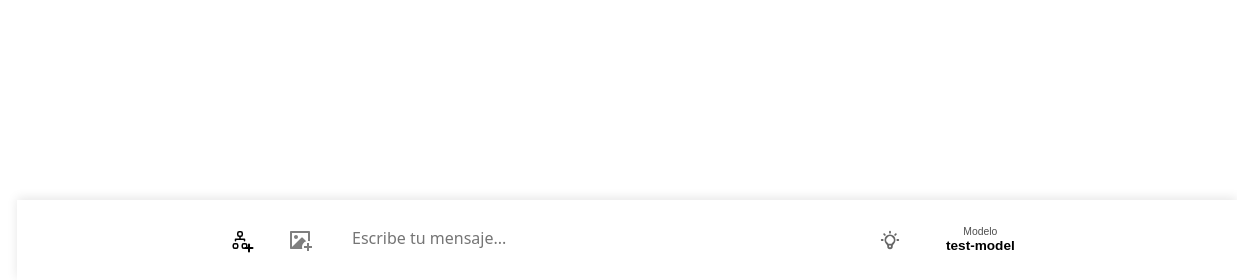
ChatInput Component - Templates › al hacer clic en una plantilla, el input cambia a su prompt
Click the button titled "Ver plantillas". click: (890, 240)
box: [874,224,906,256]
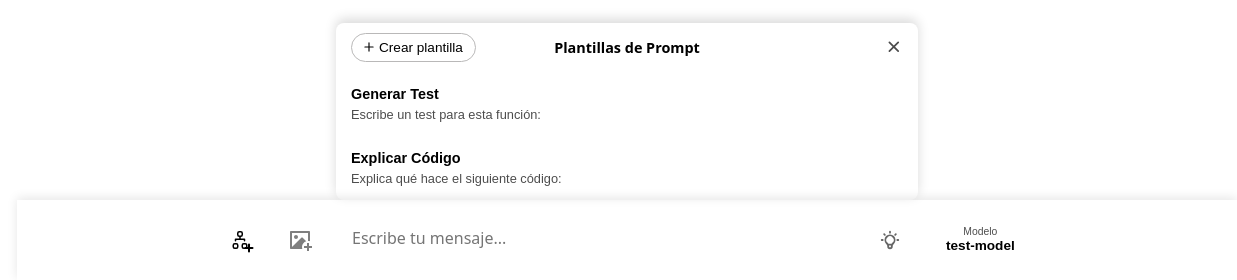
Note: Hacer clic en una de las plantillas
Click the text "Generar Test". click: (395, 94)
box: [351,86,439,102]
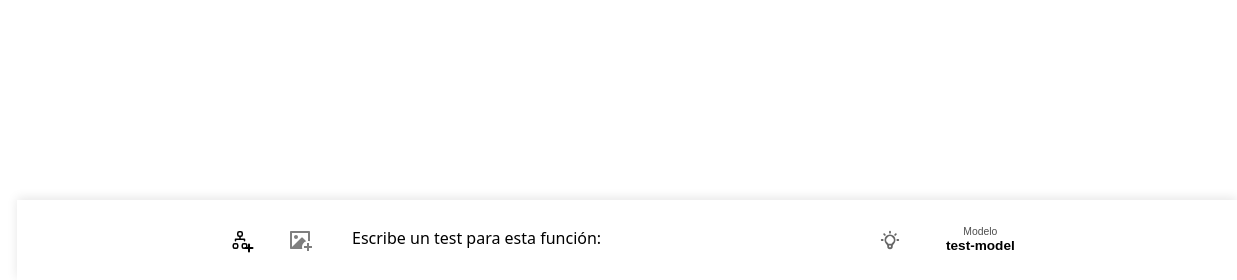
Now the text box with placeholder "Escribe tu mensaje..." holds "Escribe un test para esta función:", box [336,216,918,264]
